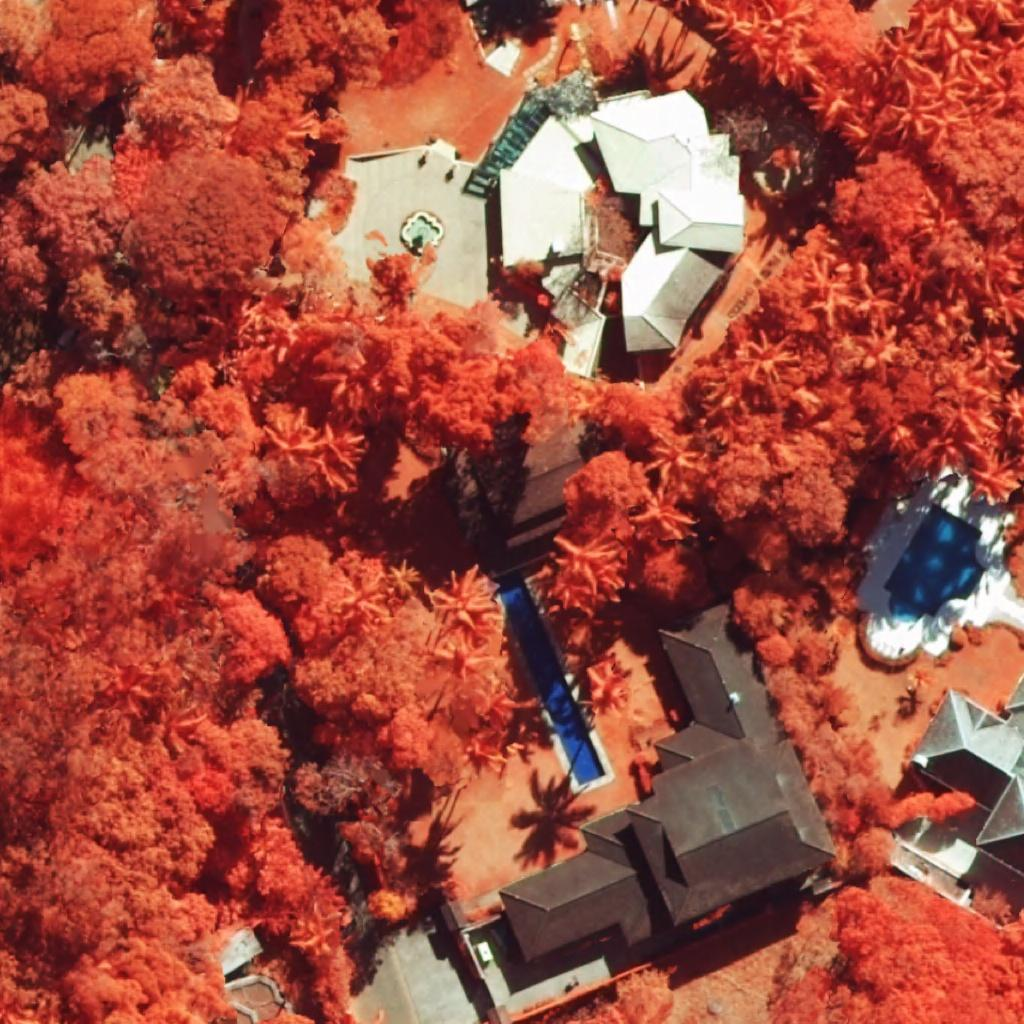pool: (498, 580, 606, 786), (883, 503, 986, 623)
